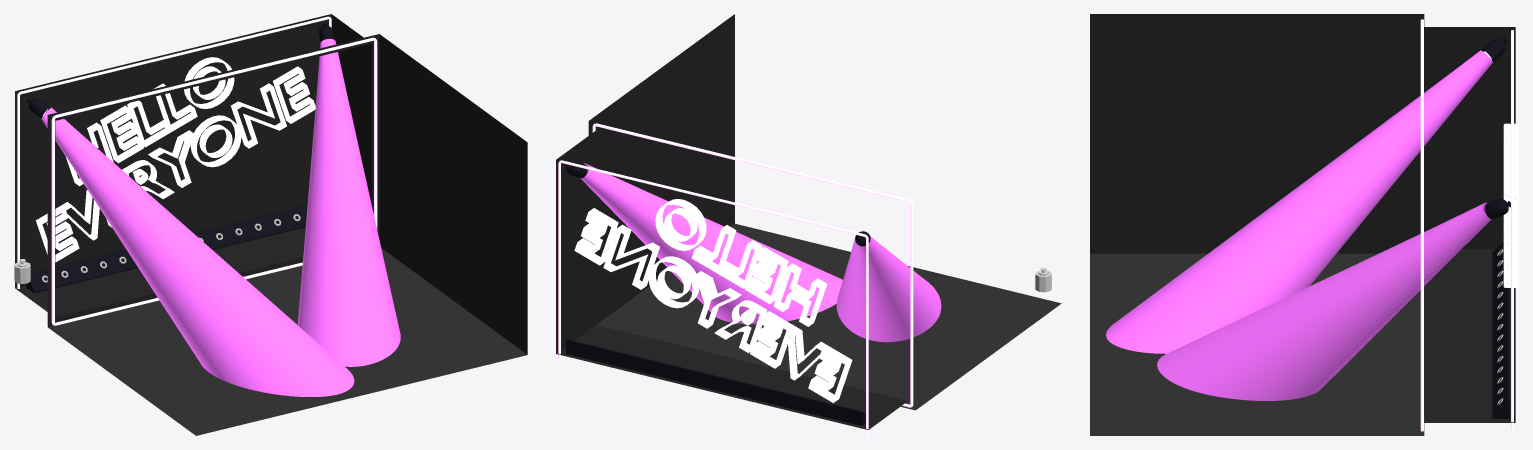
Rendered from сцена.fbx.
3 renders of one model, left to right at view 1: azimuth 30°, elevation 25°; view 2: azimuth 150°, elevation 25°; view 3: azimuth 270°, elevation 25°, orthographic. The views are drawn at different scales.
Parts seen in each view (by area): view 1: Cube, Cylinder.002, Cylinder.005, Text, Cube.001, Circle.001, Circle; view 2: Cube, Text, Cylinder.005, Cylinder.002, Cube.001, Circle, Circle.001; view 3: Cube, Cylinder.002, Cylinder.005, Cube.001, Text, Circle.001, Circle.
Part boxes in pixels (x1=…): Cube: x1=15, y1=14, x2=527, y2=435; Cylinder.002: x1=41, y1=107, x2=354, y2=396; Cylinder.005: x1=297, y1=38, x2=400, y2=366; Text: x1=36, y1=57, x2=315, y2=262; Cube.001: x1=26, y1=205, x2=307, y2=293; Circle.001: x1=51, y1=37, x2=377, y2=325; Circle: x1=17, y1=16, x2=331, y2=295; Cube: x1=556, y1=14, x2=1061, y2=429; Text: x1=574, y1=199, x2=852, y2=402; Cylinder.005: x1=580, y1=163, x2=842, y2=324; Cylinder.002: x1=836, y1=235, x2=941, y2=342; Cube.001: x1=566, y1=339, x2=869, y2=425; Circle: x1=558, y1=160, x2=868, y2=435; Circle.001: x1=592, y1=123, x2=913, y2=407; Cube: x1=1090, y1=14, x2=1515, y2=435; Cylinder.002: x1=1106, y1=50, x2=1492, y2=353; Cylinder.005: x1=1157, y1=202, x2=1491, y2=400; Cube.001: x1=1492, y1=242, x2=1509, y2=418; Text: x1=1503, y1=123, x2=1518, y2=287; Circle.001: x1=1420, y1=19, x2=1423, y2=431; Circle: x1=1511, y1=30, x2=1513, y2=429.
Bounding box in the file's own units: 609 × 348 × 482.
